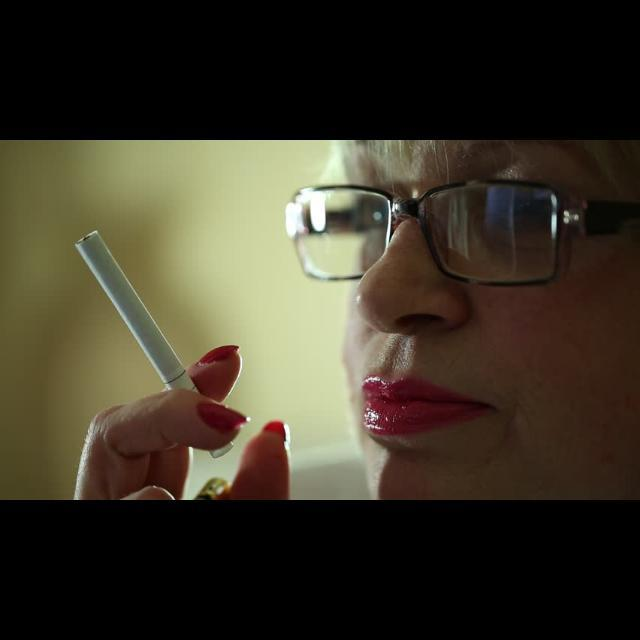rokok: (65, 226, 232, 428)
